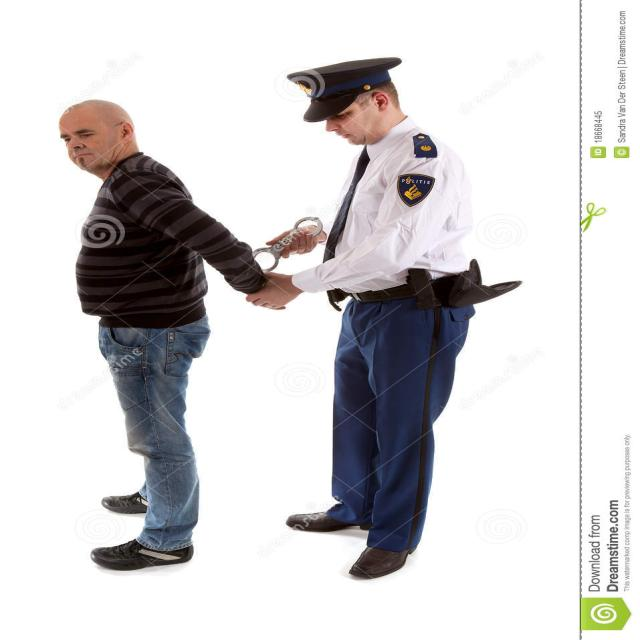police: (246, 42, 521, 591)
